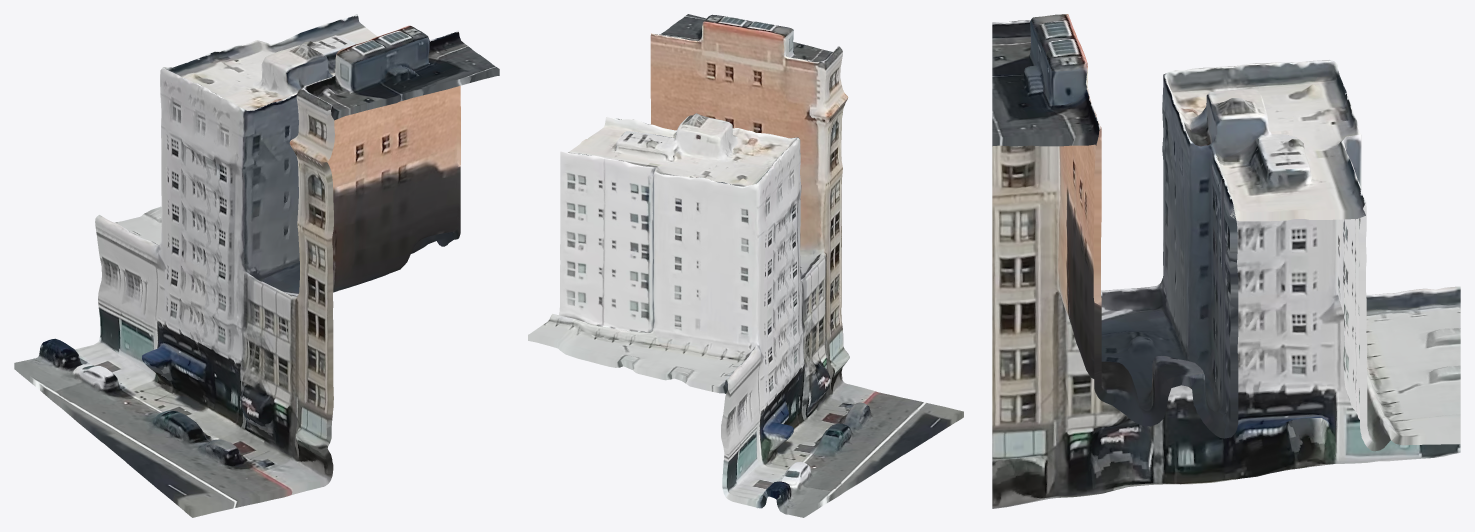
File: z20-167745-405243-h0-yup-uvflip-v3-world.glb
The picture shows the model from 3 angles, left to right: view 1: azimuth 30°, elevation 25°; view 2: azimuth 150°, elevation 25°; view 3: azimuth 270°, elevation 25°; orthographic projection. The views are drawn at different scales.
Bounding box in the file's own units: 30.16 × 38.24 × 30.32.
Materials: 1 (1 with a texture image).
